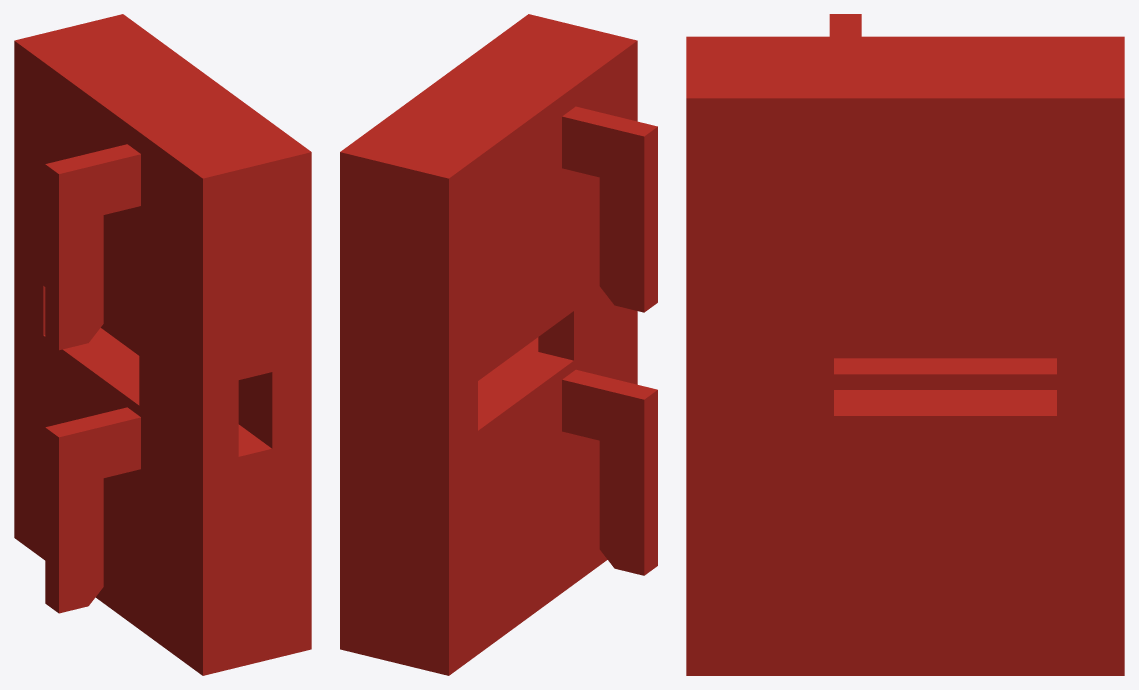
Rendered from nut-bracket.glb.
3 renders of one model, left to right at view 1: azimuth 30°, elevation 25°; view 2: azimuth 150°, elevation 25°; view 3: azimuth 270°, elevation 25°, orthographic. The views are drawn at different scales.
Parts seen in each view (by area): view 1: part_00; view 2: part_00; view 3: part_00.
Boxes of the visible parts, x1,y1,x2,y2 form: part_00: [14, 14, 311, 675]; part_00: [340, 14, 657, 675]; part_00: [686, 14, 1124, 675].
Size of the model in its own units: 19.3 by 48 by 33.
